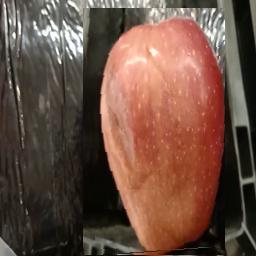Apple Semirotten: (83, 8, 225, 256)
